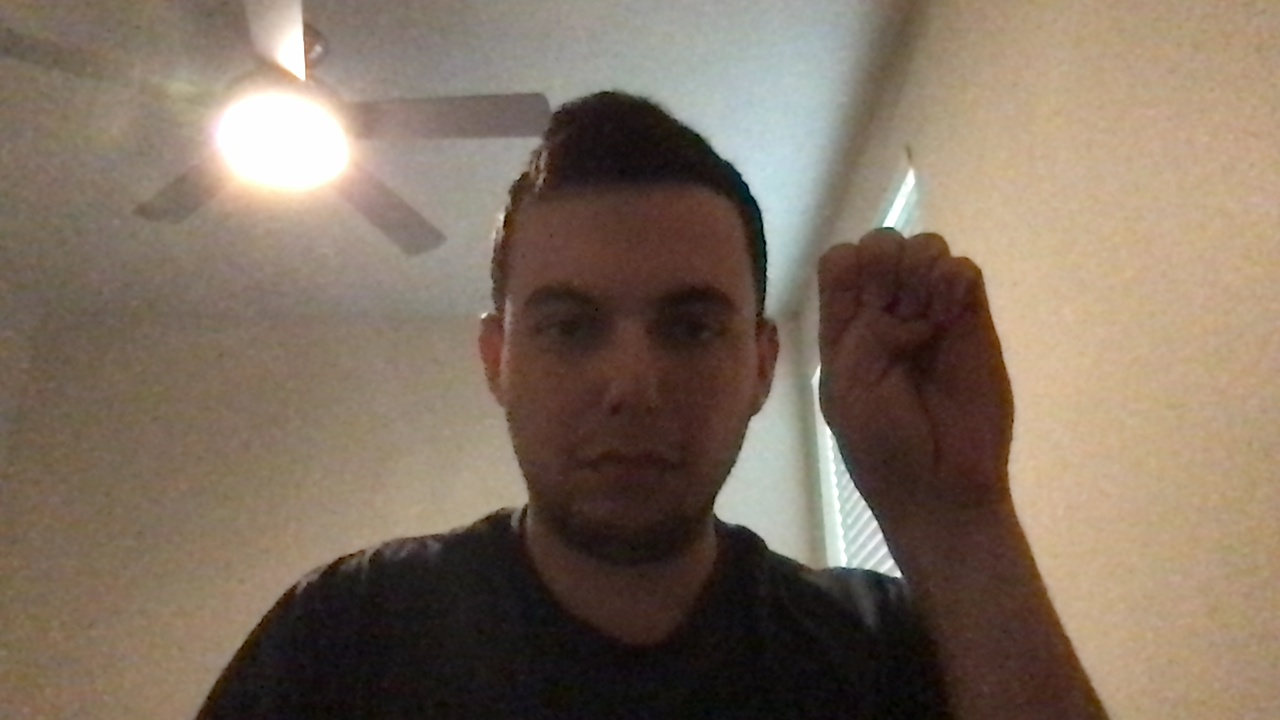e: (796, 221, 1043, 514)
